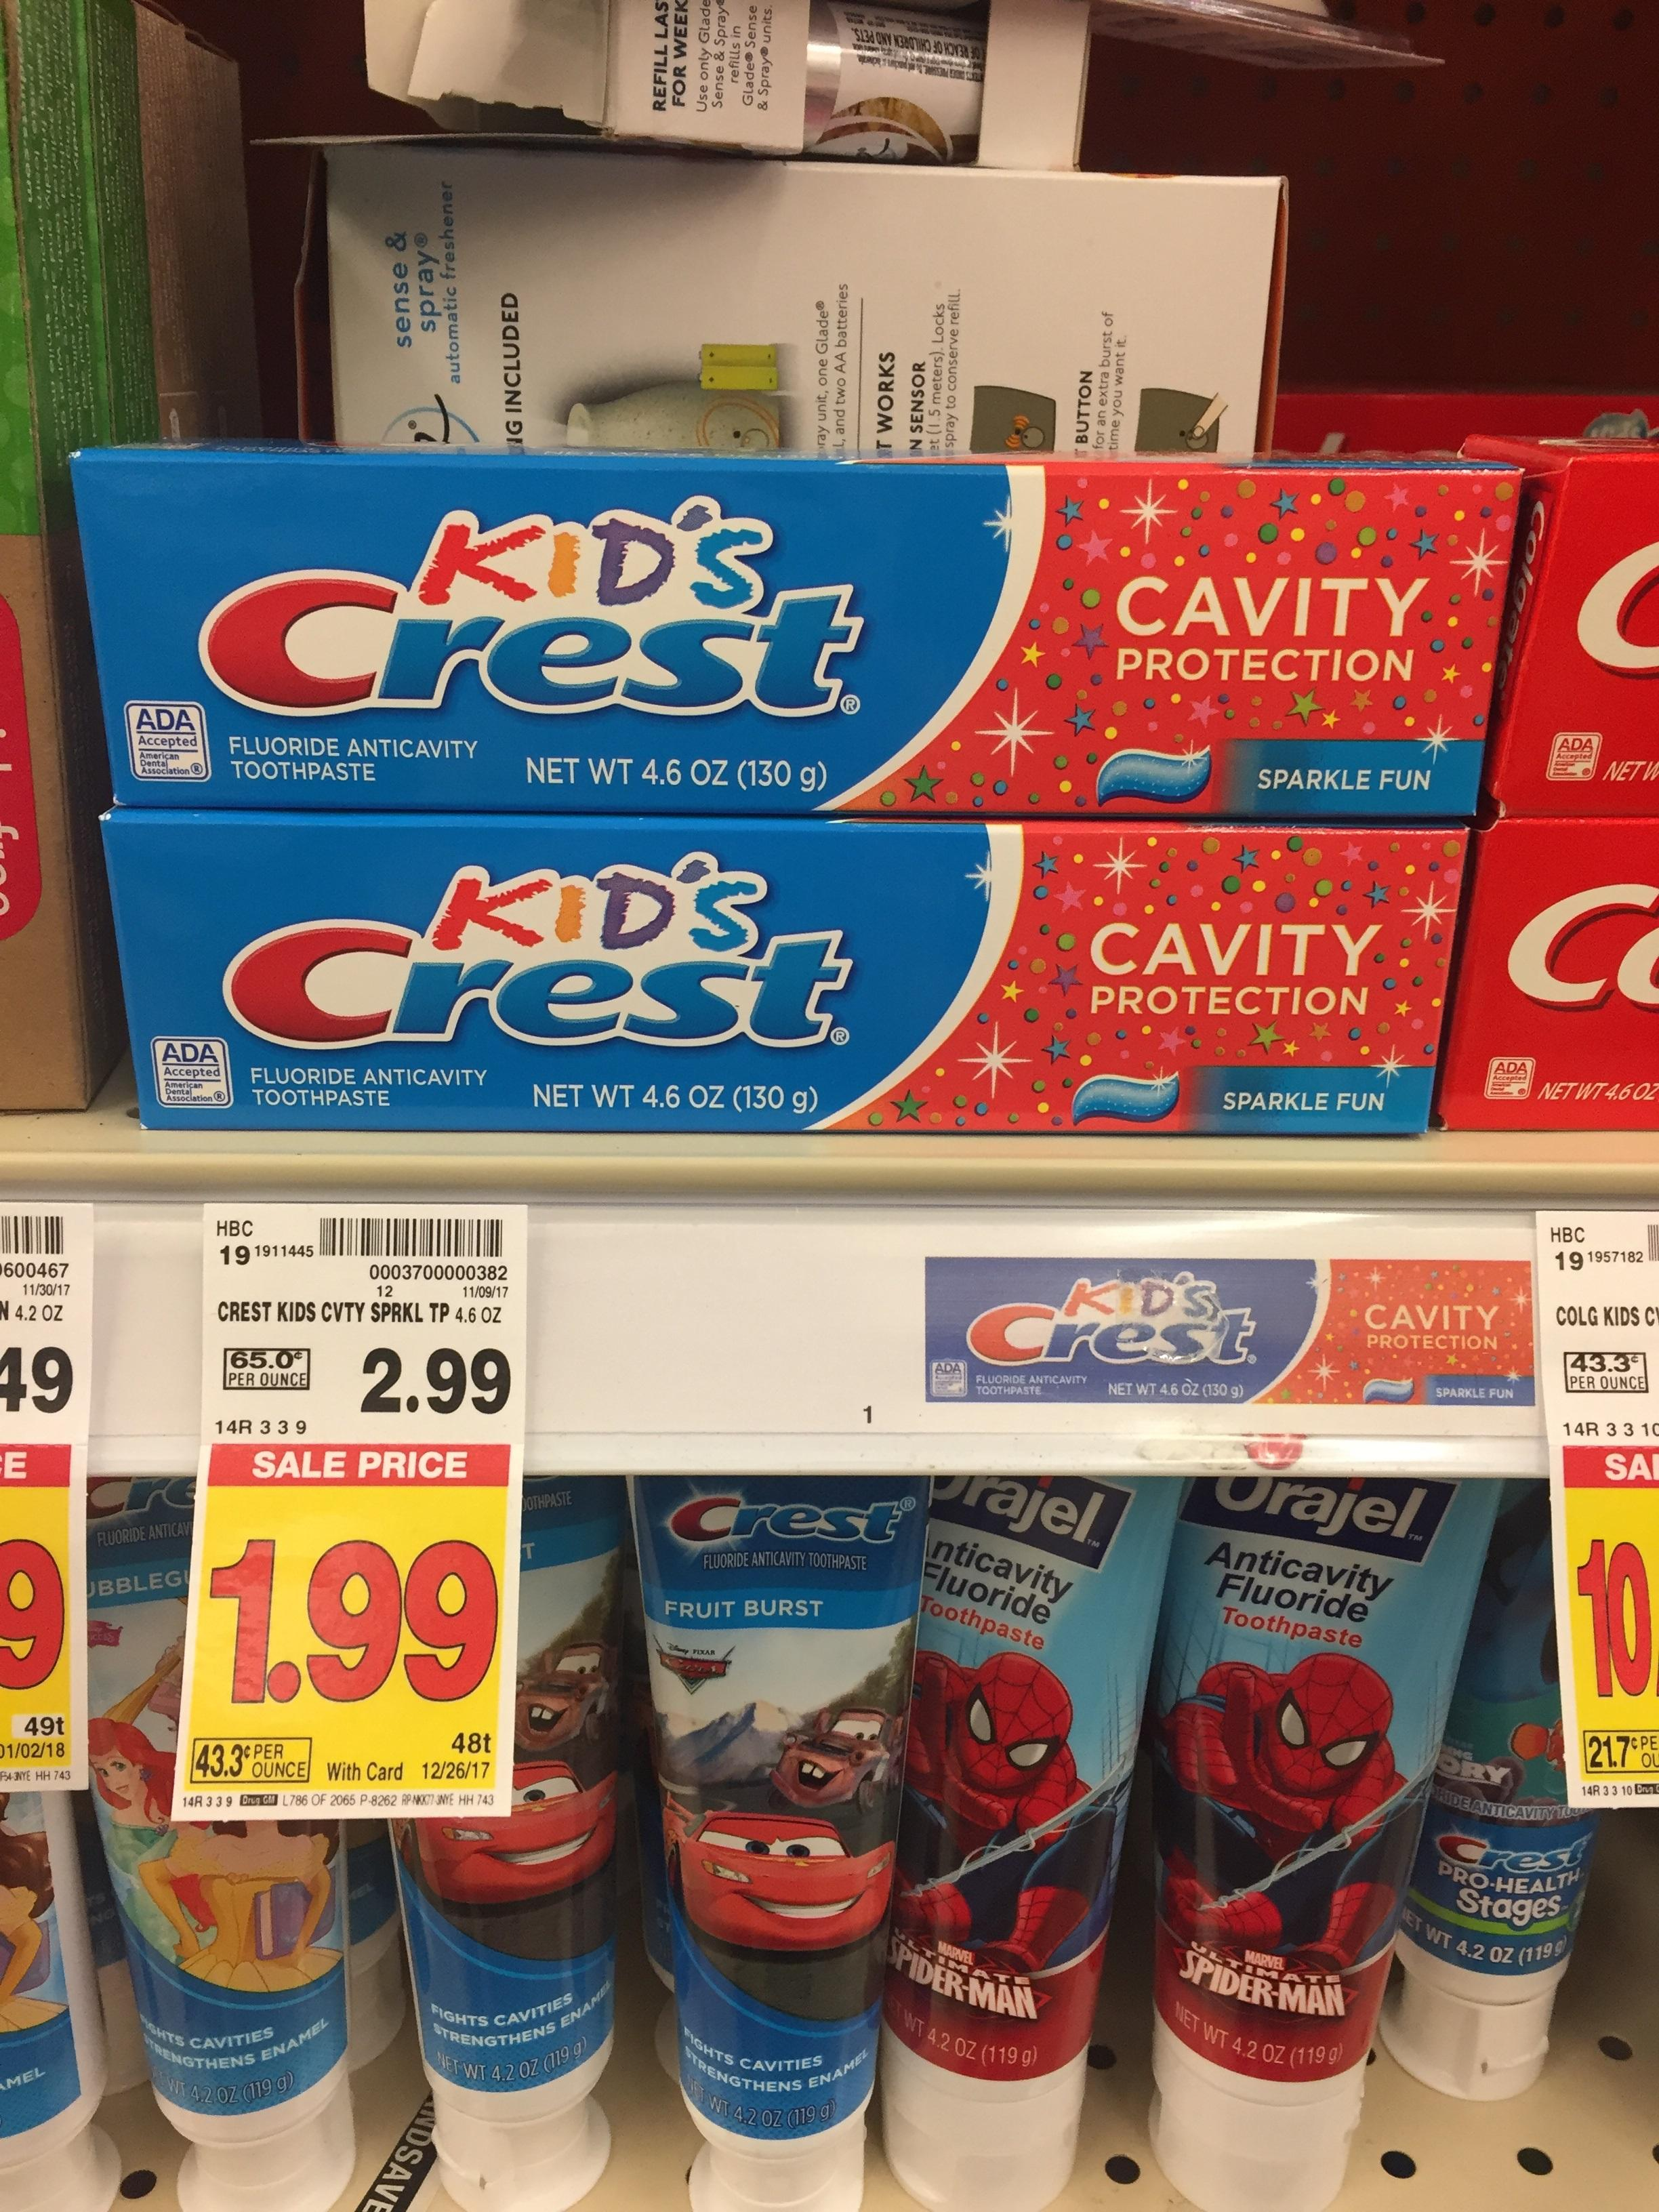toothpaste: (89, 784, 1481, 1181), (63, 428, 1480, 810), (1103, 1472, 1542, 2212), (885, 1435, 1169, 2212), (68, 1512, 383, 2210), (615, 1432, 882, 2212), (392, 1477, 631, 2210)
